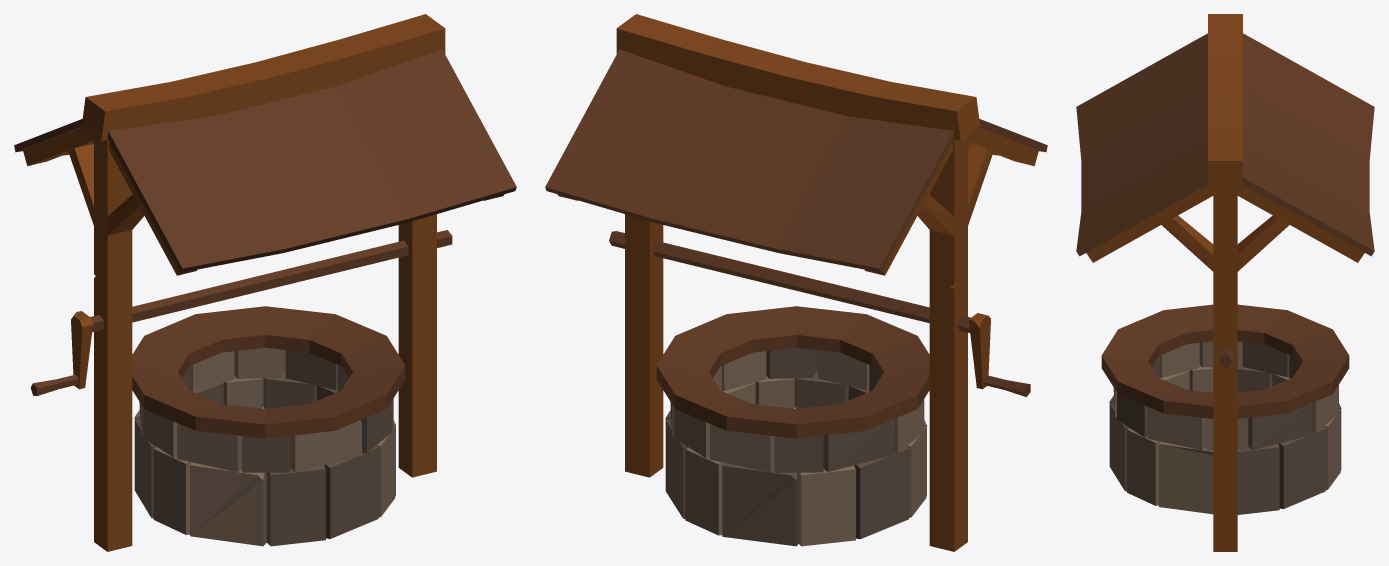
File: Well.fbx
3 renders of one model, left to right at view 1: azimuth 30°, elevation 25°; view 2: azimuth 150°, elevation 25°; view 3: azimuth 270°, elevation 25°, orthographic. The views are drawn at different scales.
Parts seen in each view (by area): view 1: Well; view 2: Well; view 3: Well.
Boxes of the visible parts, x1,y1,x2,y2 form: Well: [14, 14, 516, 551]; Well: [545, 14, 1047, 551]; Well: [1076, 14, 1374, 551].
Bounding box in the file's own units: 194 × 198 × 136.
